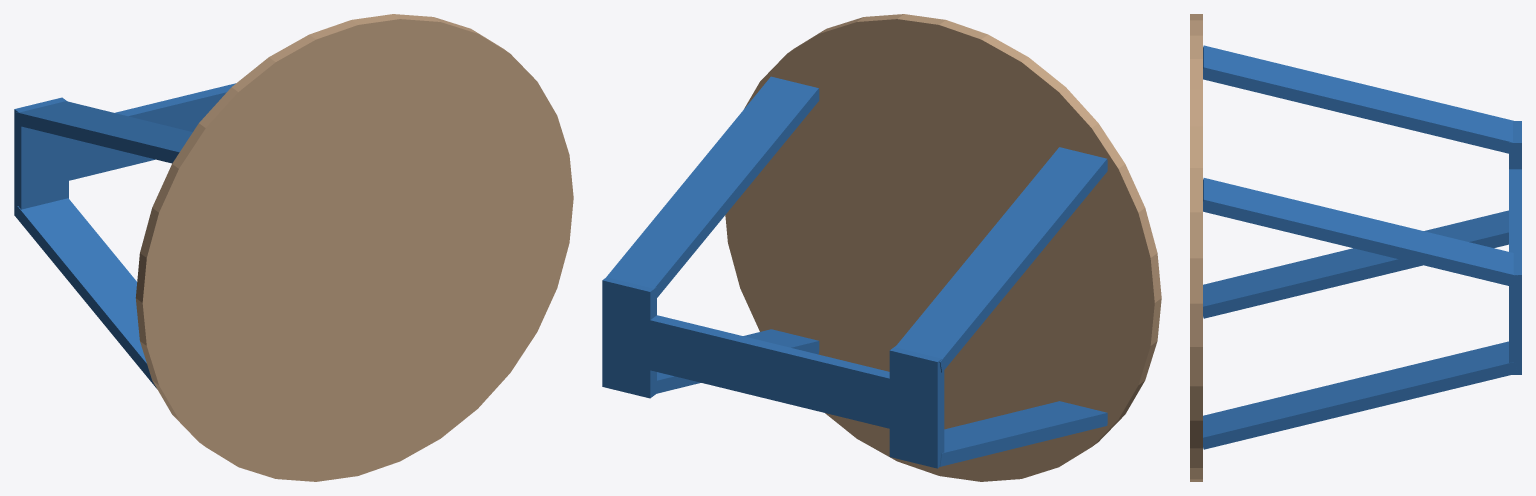
The model's file is static_base_turbine.glb.
3 renders of one model, left to right at view 1: azimuth 30°, elevation 25°; view 2: azimuth 150°, elevation 25°; view 3: azimuth 270°, elevation 25°, orthographic. The views are drawn at different scales.
Visible parts, largest first — view 1: base plate, support4, support1, perp separator2, separator; view 2: base plate, support1, support2, separator, perp separator2, perp separator, support4, support3; view 3: support2, support3, support1, support4, base plate, perp separator, separator, perp separator2.
Part boxes in pixels (x1,y1,x2,y2): base plate: (135, 14, 573, 481); support4: (15, 198, 156, 388); support1: (15, 101, 192, 163); perp separator2: (14, 97, 68, 216); separator: (69, 83, 235, 180); base plate: (725, 14, 1161, 481); support1: (895, 147, 1107, 372); support2: (606, 76, 819, 297); separator: (650, 315, 889, 428); perp separator2: (889, 346, 944, 468); perp separator: (602, 277, 656, 398); support4: (939, 401, 1107, 466); support3: (657, 329, 819, 393); support2: (1203, 178, 1517, 287); support3: (1203, 341, 1517, 449); support1: (1203, 45, 1513, 153); support4: (1203, 210, 1508, 318); base plate: (1190, 14, 1202, 481); perp separator: (1509, 253, 1521, 374); separator: (1509, 169, 1521, 252); perp separator2: (1509, 121, 1521, 169).
Bounding box in the file's own units: 0.4572 × 0.4572 × 0.3238.
